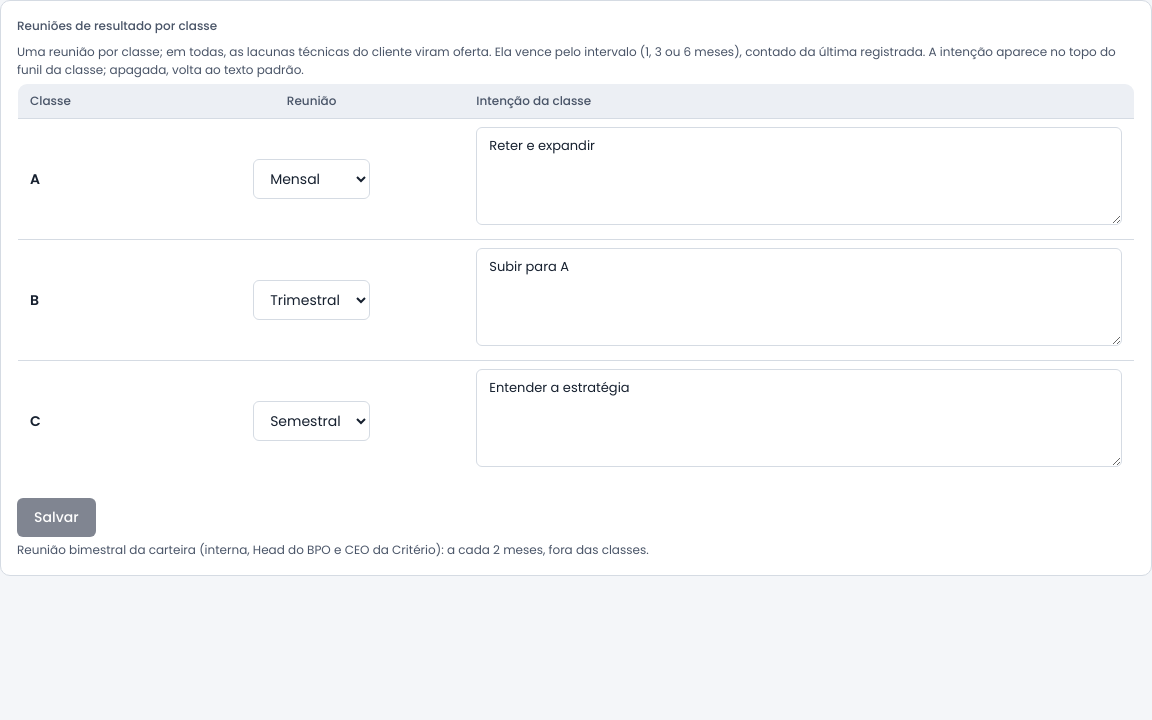
Test case: Configurações › Metas: uma reunião e uma intenção por classe (03/10/2026) › mostra a reunião e a intenção de cada classe e salva só o que mudou
The width and height of the screenshot is (1152, 720).
Expected: the dropdown named "Classe C: reunião" shows "Semestral", top-left (253, 401), bottom-right (370, 441)
Expected: the text box named "Classe A: intenção" holds "Reter e expandir", top-left (476, 127), bottom-right (1122, 225)
Select "Semestral" in the dropdown named "Classe B: reunião": (312,300) top-left (253, 280), bottom-right (370, 320)
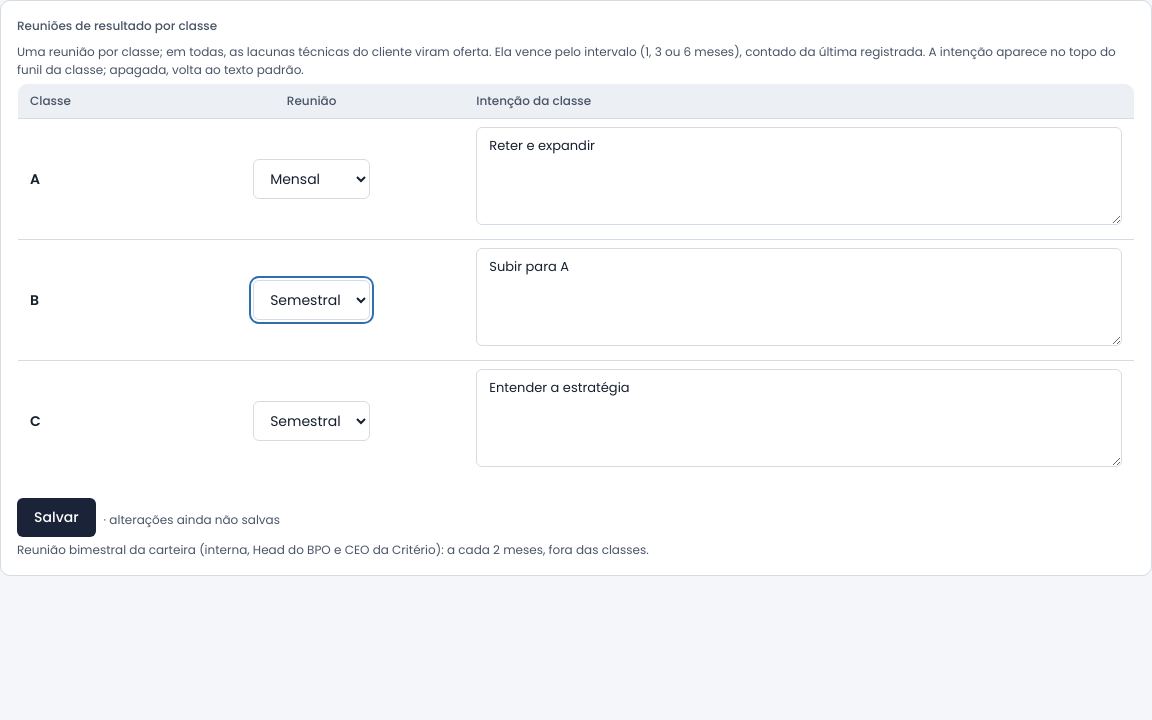
Replace the text in the text box named "Classe C: intenção" with "Vender valuation": (799,418) top-left (476, 369), bottom-right (1122, 467)
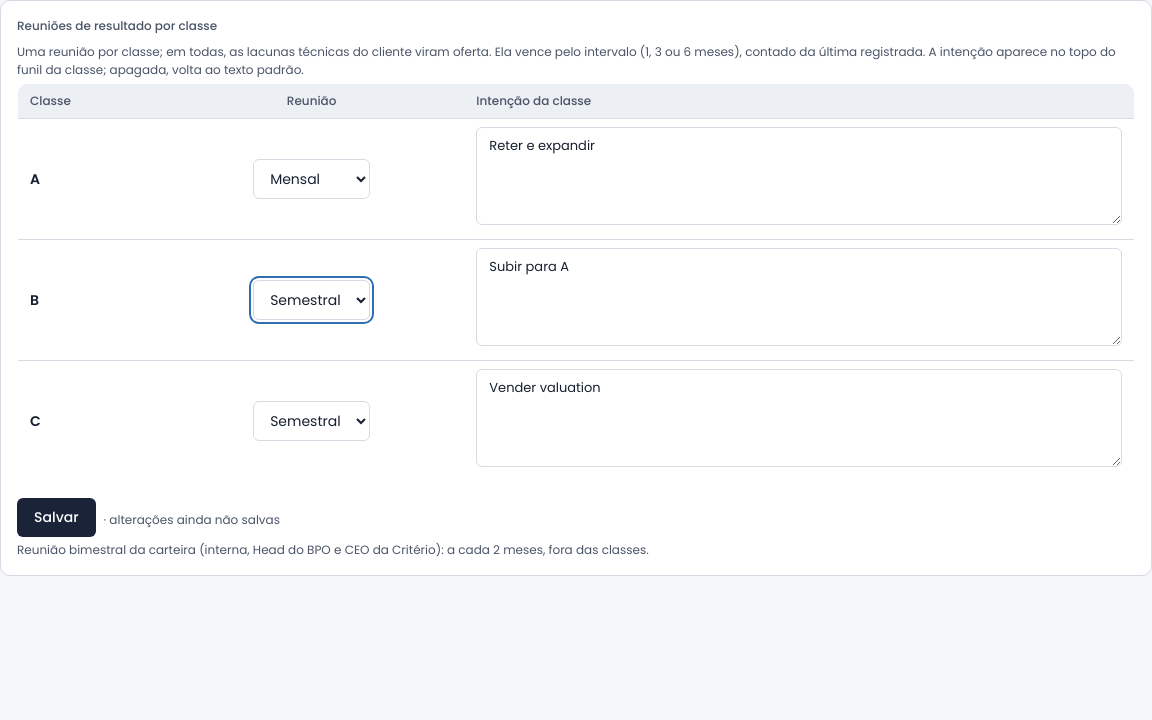
Expected: the text "· alterações ainda não salvas" is shown, top-left (104, 510), bottom-right (280, 528)
Click the button "Salvar": (56,518) top-left (17, 498), bottom-right (96, 537)
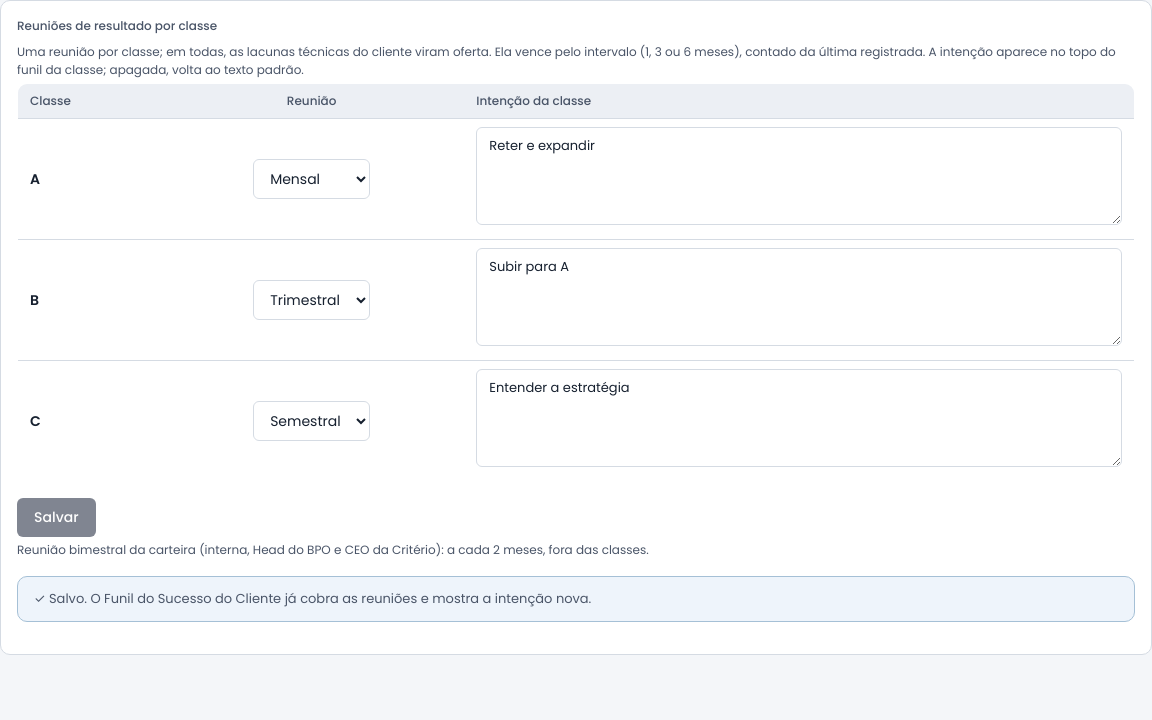
Expected: the message shows "Salvo", top-left (49, 589), bottom-right (591, 608)
